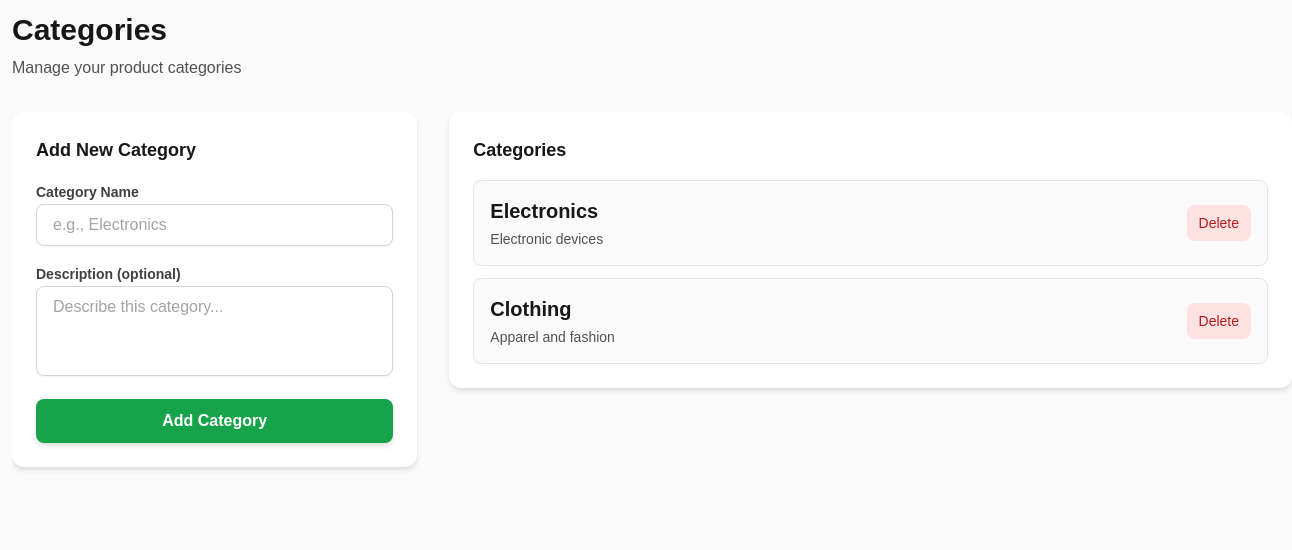
Test: CategoriesList › should delete a category
Expected: the heading "Clothing" is shown, [490,298,571,320]
Click the button "Delete" in the row of "Electronic devices" at (1219, 223), box [1186,205,1251,241]
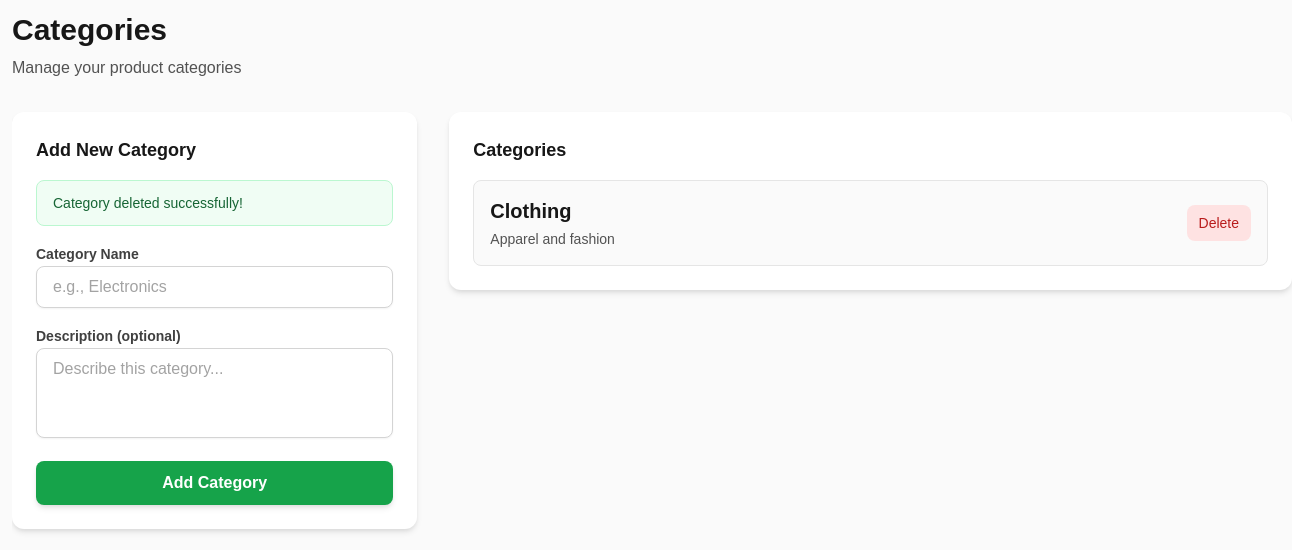
Result: the text "Category deleted successfully!" is shown at [36,180,393,226]
